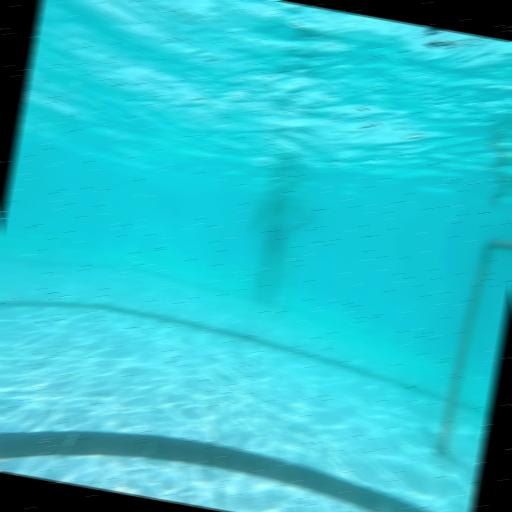gate: (430, 233, 512, 461)
